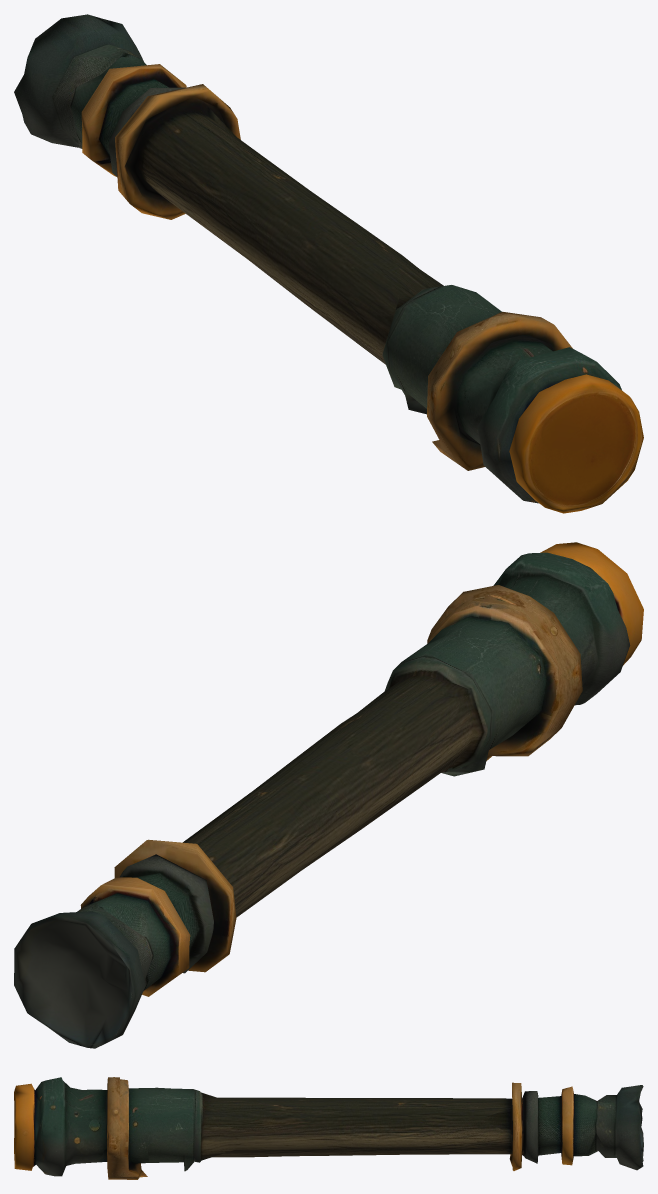
File: weapon_fighting_stick_tertiary_1500_raw.glb
The picture shows the model from 3 angles, top to bottom: view 1: azimuth 30°, elevation 25°; view 2: azimuth 150°, elevation 25°; view 3: azimuth 270°, elevation 25°; orthographic projection. The views are drawn at different scales.
Visible parts, largest first — view 1: tripo_node_089fac7f-1479-4f14-96b2-79fbd4ed0937; view 2: tripo_node_089fac7f-1479-4f14-96b2-79fbd4ed0937; view 3: tripo_node_089fac7f-1479-4f14-96b2-79fbd4ed0937.
Boxes of the visible parts, left/top/right/bottom form: tripo_node_089fac7f-1479-4f14-96b2-79fbd4ed0937: left=14, top=14, right=643, bottom=513; tripo_node_089fac7f-1479-4f14-96b2-79fbd4ed0937: left=14, top=542, right=643, bottom=1048; tripo_node_089fac7f-1479-4f14-96b2-79fbd4ed0937: left=14, top=1077, right=643, bottom=1179.
Size of the model in its own units: 0.1649 by 0.1663 by 0.9809.
Materials: 1 (1 with a texture image).
